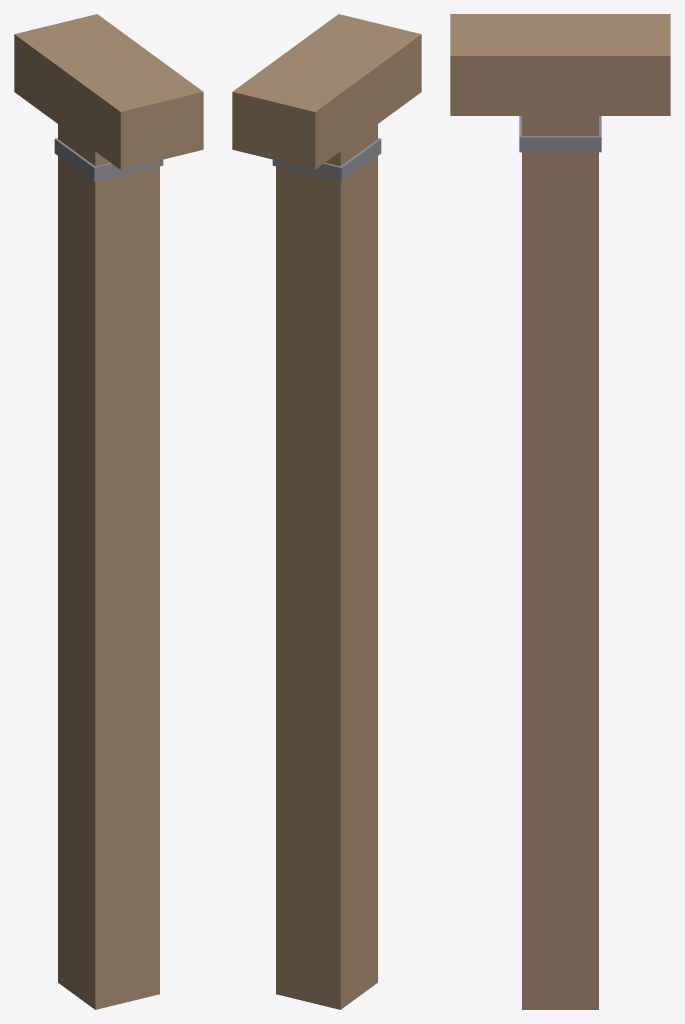
File: timber-prop.glb
3 views of the same model, side by side, from view 1: azimuth 30°, elevation 25°; view 2: azimuth 150°, elevation 25°; view 3: azimuth 270°, elevation 25° (orthographic). The views are drawn at different scales.
Visible parts, largest first — view 1: timber-prop; view 2: timber-prop; view 3: timber-prop.
Part boxes in pixels (<box>): timber-prop: <box>14,14,203,1009</box>; timber-prop: <box>232,14,421,1009</box>; timber-prop: <box>450,14,670,1009</box>.
Size of the model in its own units: 0.18 by 1.92 by 0.4.
